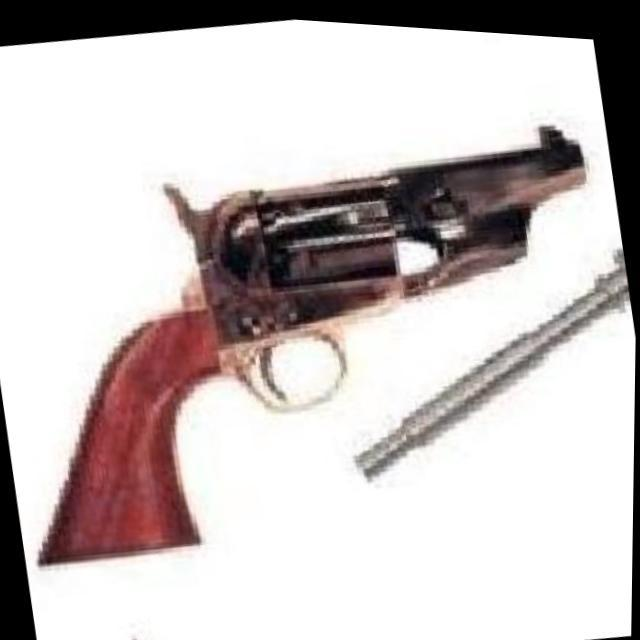weapon: (0, 80, 639, 598)
